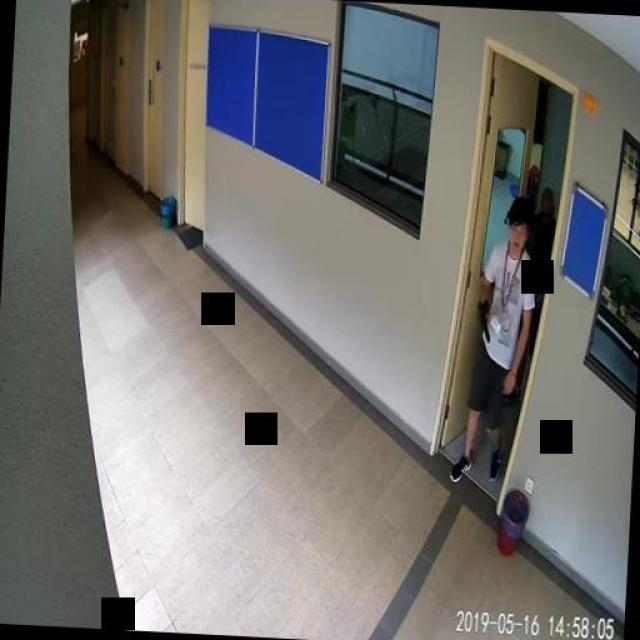gun: (475, 298, 491, 342)
